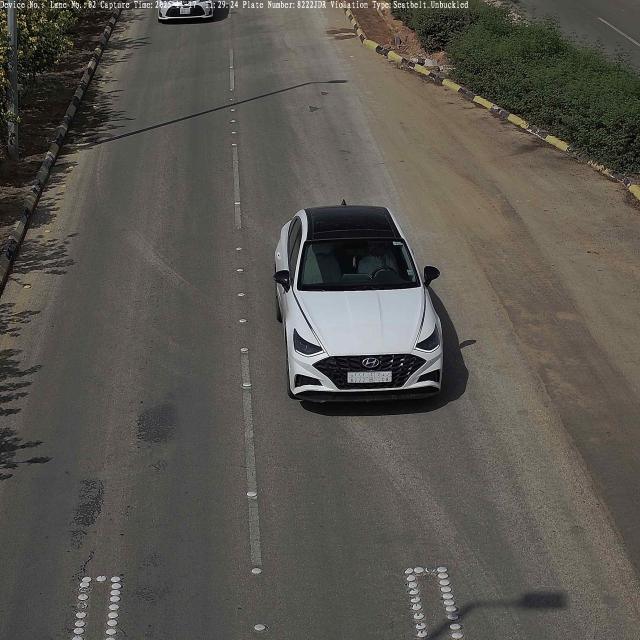person_without_seatbelt: (360, 242, 395, 280)
